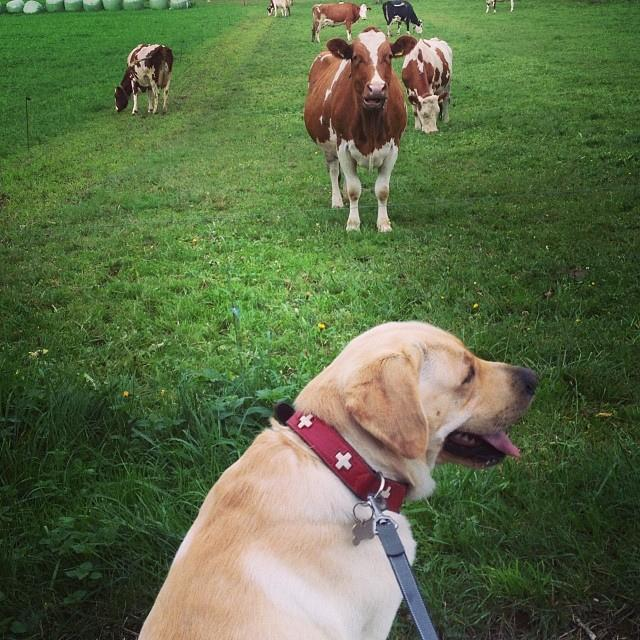cow: (304, 23, 420, 233), (400, 35, 451, 133), (113, 41, 173, 114), (310, 3, 366, 40), (381, 0, 422, 35), (483, 0, 520, 14)
